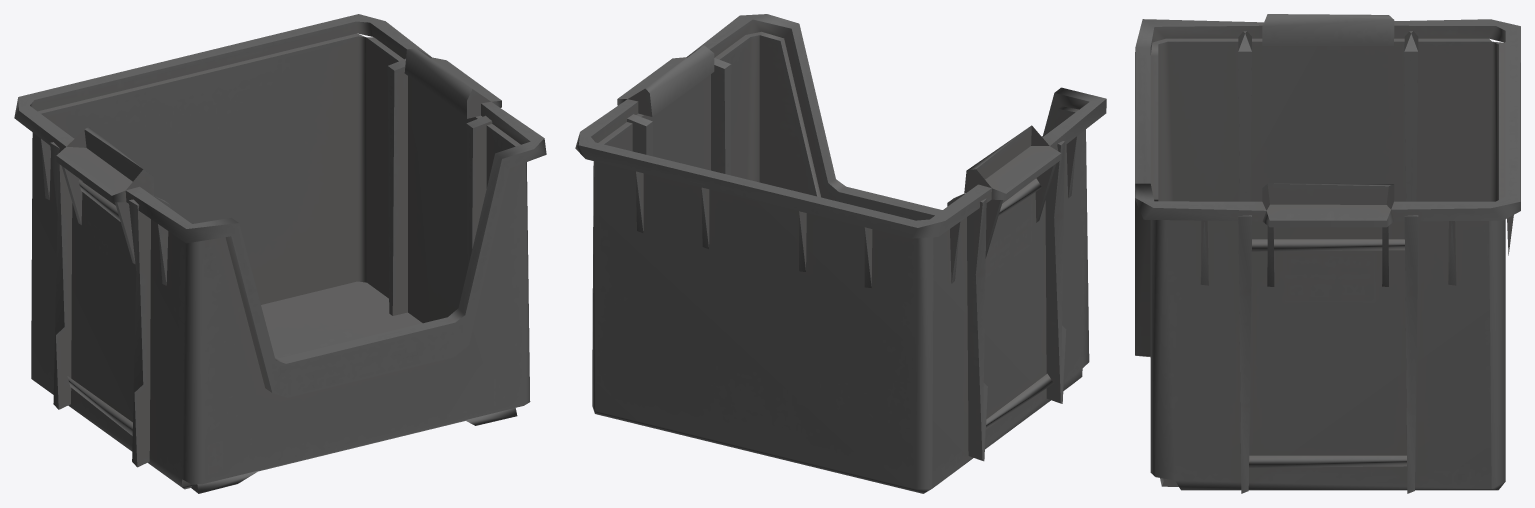
Rendered from SM_CratePlasticA_01.fbx.
3 renders of one model, left to right at view 1: azimuth 30°, elevation 25°; view 2: azimuth 150°, elevation 25°; view 3: azimuth 270°, elevation 25°, orthographic. The views are drawn at different scales.
Visible parts, largest first — view 1: SM_CratePlastic_A_01_LOD2; view 2: SM_CratePlastic_A_01_LOD2; view 3: SM_CratePlastic_A_01_LOD2.
Boxes of the visible parts, bbox=[...] form: SM_CratePlastic_A_01_LOD2: bbox=[14, 14, 546, 493]; SM_CratePlastic_A_01_LOD2: bbox=[575, 14, 1106, 493]; SM_CratePlastic_A_01_LOD2: bbox=[1135, 14, 1520, 493].
Bounding box in the file's own units: 61.64 × 43.83 × 49.95.
